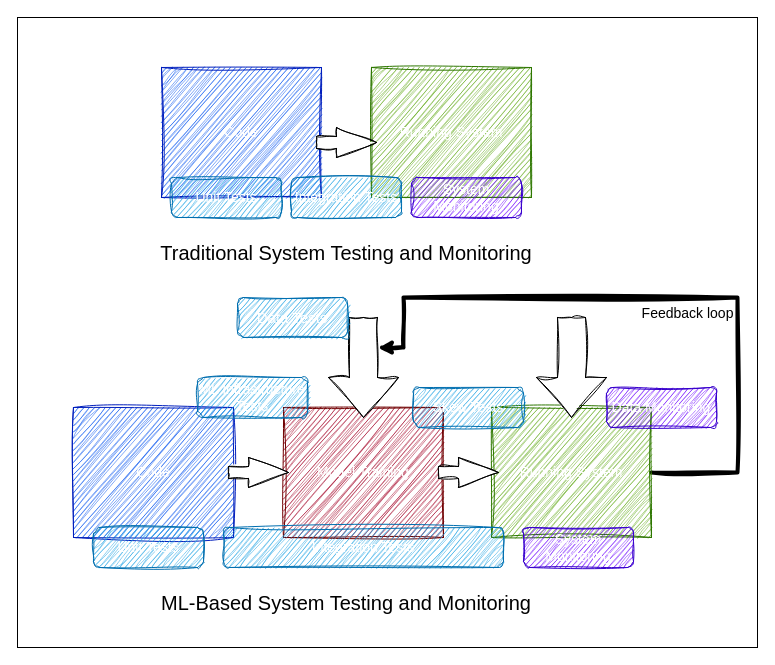
The diagram is 775 pixels wide and 665 high, and some of its shapes have lost their labels. The box of each missing label's shape, as (x1, y1, x2, y2) in pixels:
Inference Data: (536, 316, 606, 418)
Training Data: (328, 316, 398, 418)
